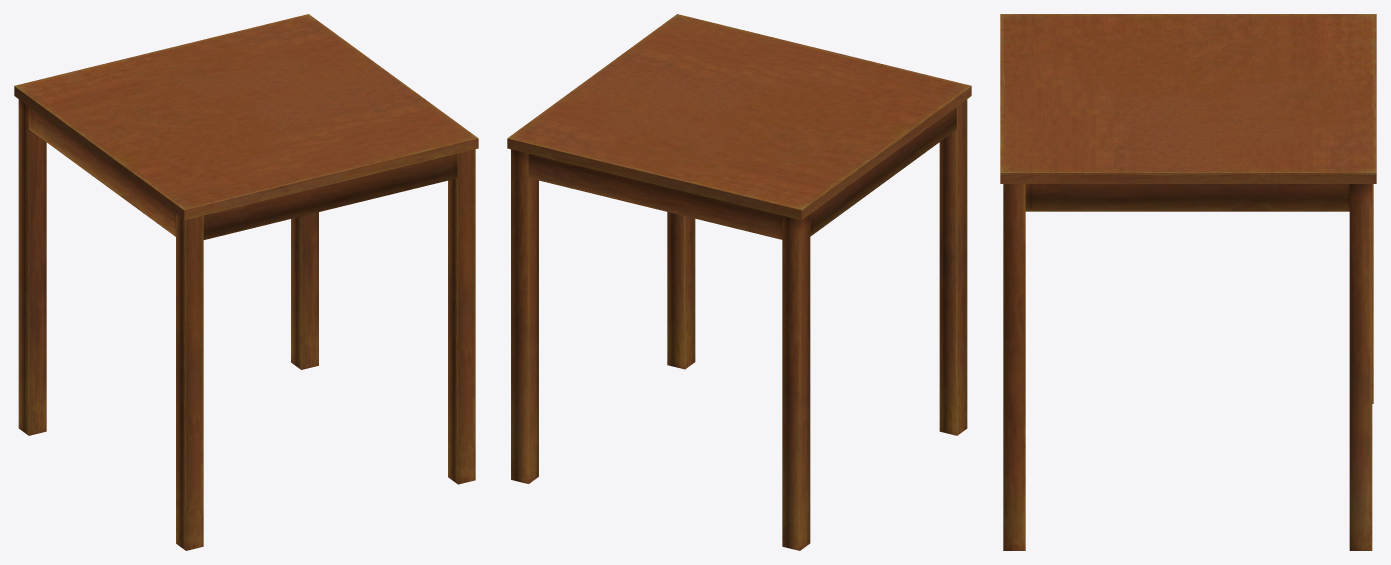
File: table_dinner_small.dae
3 renders of one model, left to right at view 1: azimuth 30°, elevation 25°; view 2: azimuth 150°, elevation 25°; view 3: azimuth 270°, elevation 25°, orthographic. The views are drawn at different scales.
Parts seen in each view (by area): view 1: table_dinner_small; view 2: table_dinner_small; view 3: table_dinner_small.
Part boxes in pixels (x1=…): table_dinner_small: x1=14, y1=14, x2=478, y2=550; table_dinner_small: x1=507, y1=14, x2=971, y2=550; table_dinner_small: x1=1000, y1=14, x2=1376, y2=550.
Bounding box in the file's own units: 90 × 99.96 × 90.
